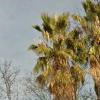Tree: (25, 9, 100, 100)
